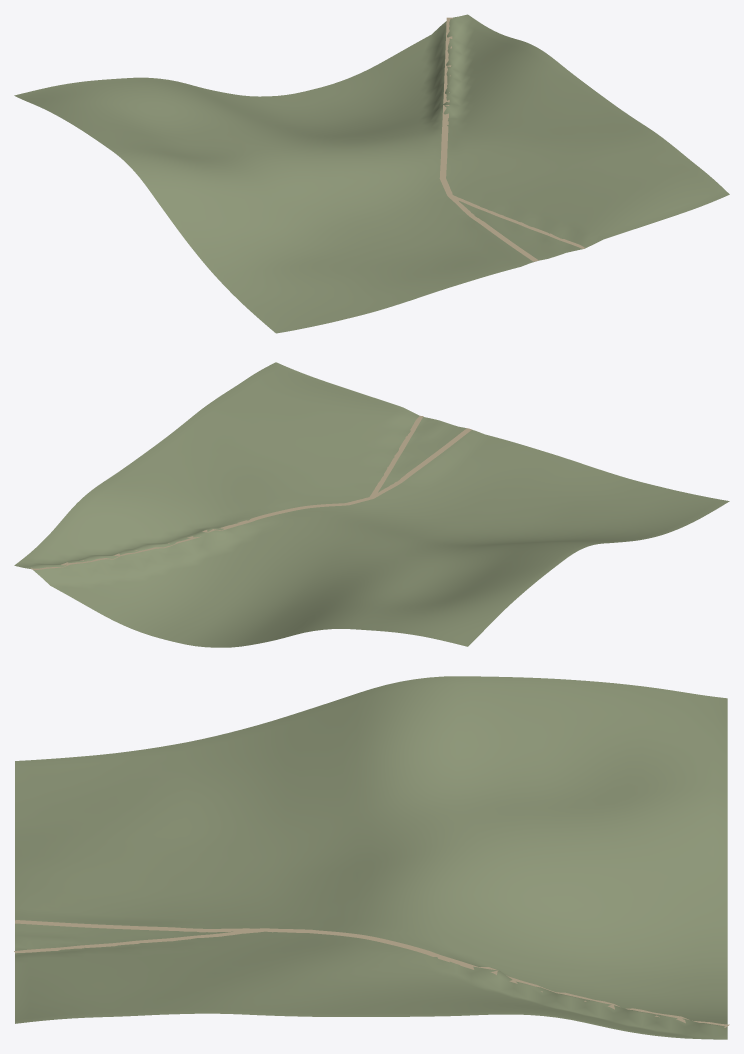
3 renders of one model, top to bottom at view 1: azimuth 30°, elevation 25°; view 2: azimuth 150°, elevation 25°; view 3: azimuth 270°, elevation 25°, orthographic. The views are drawn at different scales.
Parts seen in each view (by area): view 1: ground, path; view 2: ground, path; view 3: ground, path.
Part boxes in pixels (x1=…): ground: x1=14, y1=14, x2=729, y2=333; path: x1=439, y1=17, x2=585, y2=261; ground: x1=14, y1=362, x2=729, y2=647; path: x1=31, y1=415, x2=471, y2=569; ground: x1=15, y1=676, x2=727, y2=1039; path: x1=14, y1=920, x2=729, y2=1027.
Size of the model in its own units: 250 by 43.73 by 251.
